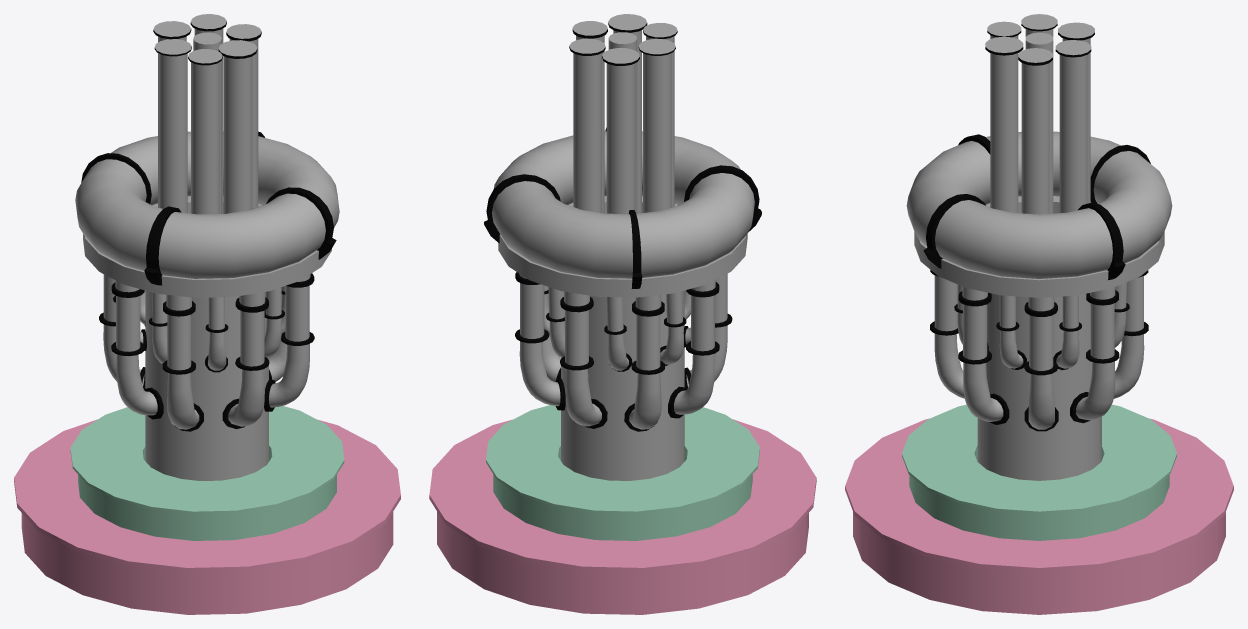
Rendered from central_pillar.fbx.
3 renders of one model, left to right at view 1: azimuth 30°, elevation 25°; view 2: azimuth 150°, elevation 25°; view 3: azimuth 270°, elevation 25°, orthographic.
Visible parts, largest first — view 1: pasted__pPipe2, pasted__pipemain, pasted__pPipe1, pasted__central, pasted__nurbsToPoly1 (×9), pasted__pCylinder1 (×6), pasted__central_pipe3, pasted__central_pipe, pasted__central_pipe2, pasted__pipetop, pasted__central_pipe4, pasted__central_pipe5 (+2 smaller); view 2: pasted__pPipe2, pasted__pipemain, pasted__pPipe1, pasted__central, pasted__pCylinder1 (×7), pasted__nurbsToPoly1 (×8), pasted__central_pipe, pasted__central_pipe5, pasted__central_pipe6, pasted__pipetop, pasted__central_pipe3, pasted__central_pipe2 (+2 smaller); view 3: pasted__pPipe2, pasted__pipemain, pasted__pPipe1, pasted__central, pasted__pCylinder1 (×7), pasted__nurbsToPoly1 (×7), pasted__central_pipe3, pasted__central_pipe5, pasted__pipetop, pasted__central_pipe4, pasted__central_pipe1, pasted__central_pipe6 (+1 smaller).
Part boxes in pixels (bbox=[...]): pasted__pPipe2: bbox=[14, 419, 400, 614]; pasted__pipemain: bbox=[75, 131, 339, 285]; pasted__pPipe1: bbox=[70, 406, 344, 540]; pasted__central: bbox=[145, 290, 268, 480]; pasted__nurbsToPoly1 (×9): bbox=[103, 318, 309, 431]; pasted__pCylinder1 (×6): bbox=[99, 273, 314, 374]; pasted__central_pipe3: bbox=[218, 40, 257, 213]; pasted__central_pipe: bbox=[154, 39, 191, 213]; pasted__central_pipe2: bbox=[188, 49, 222, 214]; pasted__pipetop: bbox=[83, 196, 331, 297]; pasted__central_pipe4: bbox=[226, 24, 261, 208]; pasted__central_pipe5: bbox=[190, 14, 226, 213]; pasted__pPipe2: bbox=[429, 419, 816, 614]; pasted__pipemain: bbox=[484, 127, 761, 288]; pasted__pPipe1: bbox=[486, 405, 759, 540]; pasted__central: bbox=[561, 290, 684, 480]; pasted__pCylinder1 (×7): bbox=[515, 272, 732, 374]; pasted__nurbsToPoly1 (×8): bbox=[519, 325, 727, 431]; pasted__central_pipe: bbox=[638, 38, 675, 212]; pasted__central_pipe5: bbox=[569, 38, 605, 212]; pasted__central_pipe6: bbox=[602, 48, 639, 213]; pasted__pipetop: bbox=[498, 196, 747, 297]; pasted__central_pipe3: bbox=[608, 14, 647, 213]; pasted__central_pipe2: bbox=[643, 23, 677, 207]; pasted__pPipe2: bbox=[845, 418, 1233, 614]; pasted__pipemain: bbox=[906, 131, 1172, 280]; pasted__pPipe1: bbox=[902, 404, 1176, 540]; pasted__central: bbox=[977, 293, 1101, 480]; pasted__pCylinder1 (×7): bbox=[930, 270, 1148, 375]; pasted__nurbsToPoly1 (×7): bbox=[934, 330, 1144, 431]; pasted__central_pipe3: bbox=[985, 36, 1023, 212]; pasted__central_pipe5: bbox=[1055, 40, 1091, 213]; pasted__pipetop: bbox=[914, 196, 1164, 297]; pasted__central_pipe4: bbox=[1018, 48, 1052, 214]; pasted__central_pipe1: bbox=[1025, 32, 1053, 213]; pasted__central_pipe6: bbox=[1058, 22, 1094, 203].
Size of the model in its own units: 16.05 by 22.67 by 16.05.
